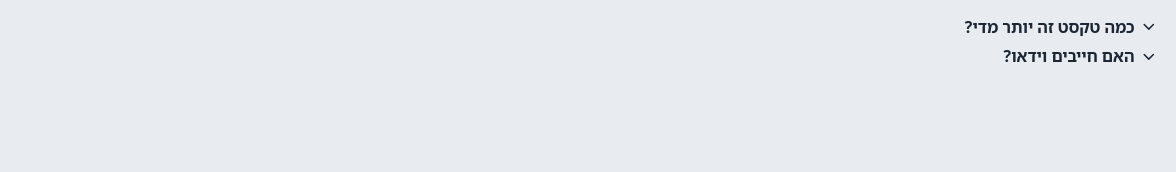
Test: AccordionRenderer › פותח פריט בלחיצה ומעדכן את aria-expanded
Click the button "כמה טקסט זה יותר מדי?" at (1050, 27), box [12,12,1164,42]
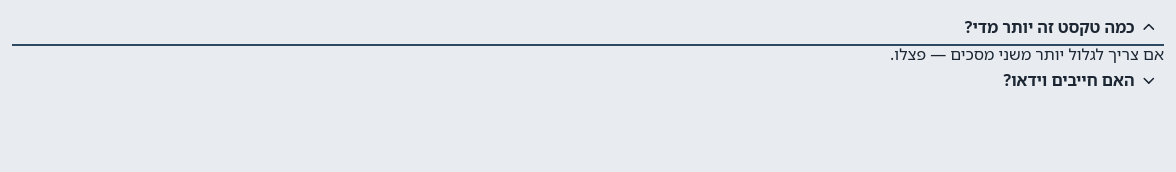
Result: the button "כמה טקסט זה יותר מדי?" is expanded at [12,12,1164,42]
Result: the text "אם צריך לגלול יותר משני מסכים — פצלו." is shown at [890,43,1164,65]
